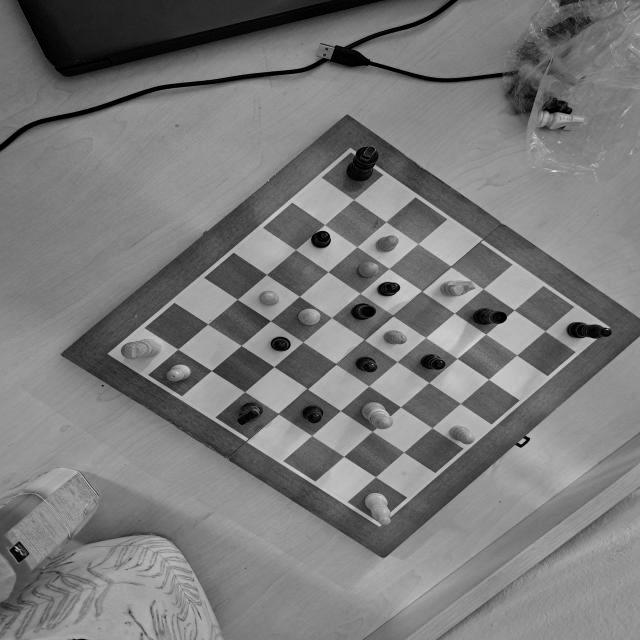chess-table-corners: (362, 511, 394, 534), (590, 318, 620, 340), (336, 144, 364, 163), (102, 346, 128, 362)
